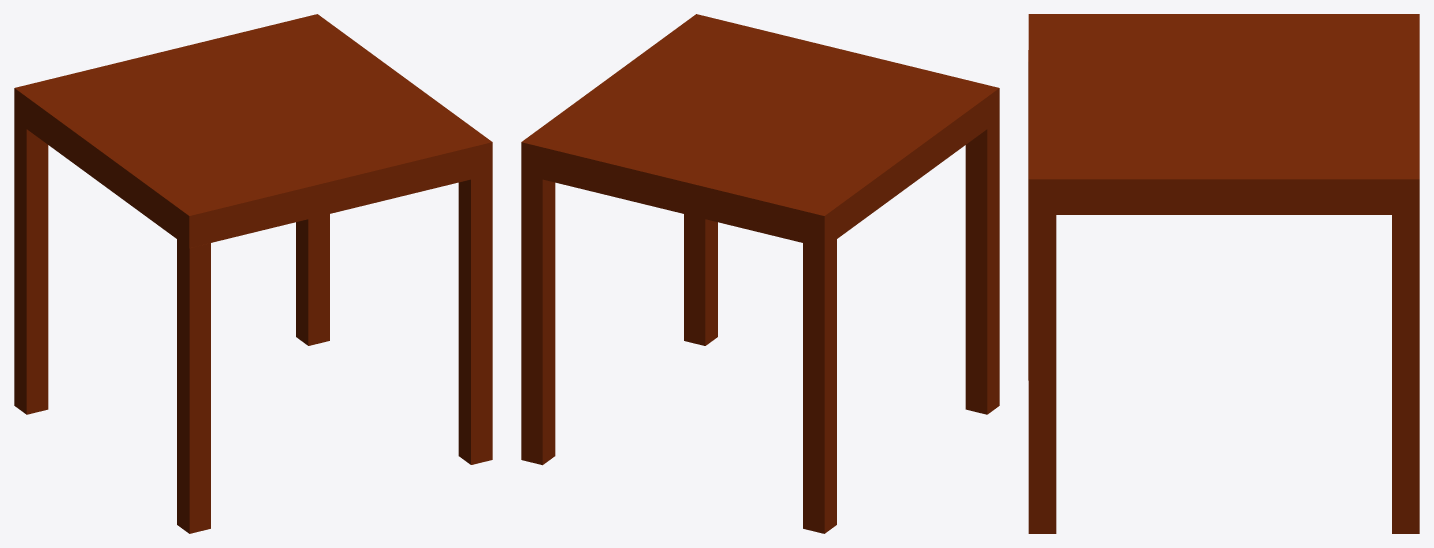
The model's file is table 1.fbx.
3 renders of one model, left to right at view 1: azimuth 30°, elevation 25°; view 2: azimuth 150°, elevation 25°; view 3: azimuth 270°, elevation 25°, orthographic. The views are drawn at different scales.
Parts seen in each view (by area): view 1: table; view 2: table; view 3: table.
Boxes of the visible parts, x1,y1,x2,y2 form: table: (14, 14, 492, 533); table: (521, 14, 999, 533); table: (1028, 14, 1419, 533).
Bounding box in the file's own units: 99.85 × 100 × 99.93.
